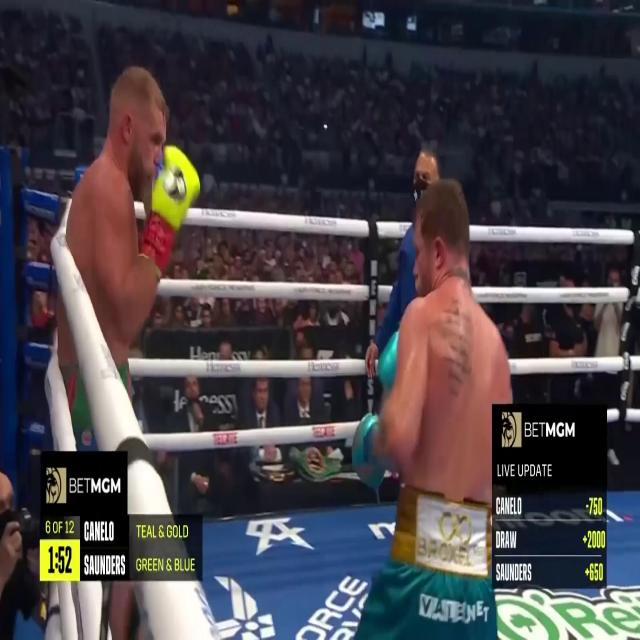boxer_1: (51, 68, 167, 377)
boxer_2: (405, 180, 501, 502)
gloves_1: (140, 145, 200, 274)
gloves_2: (352, 413, 387, 495), (378, 331, 399, 389)
